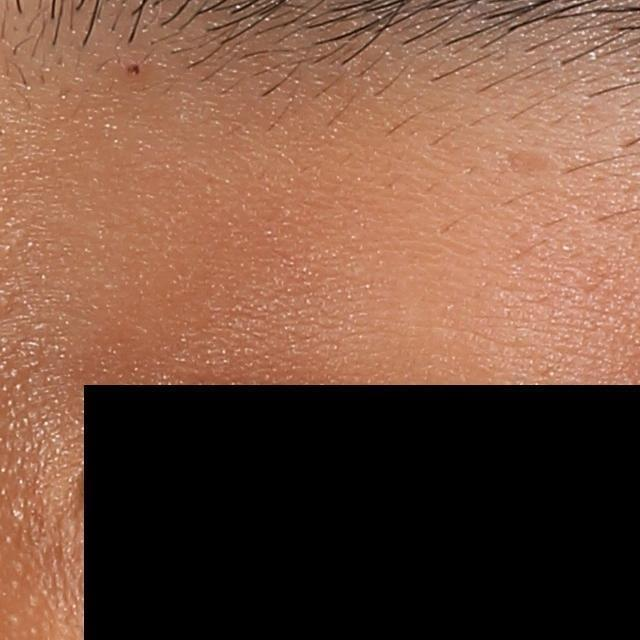atrophic_scar: (504, 151, 562, 180)
